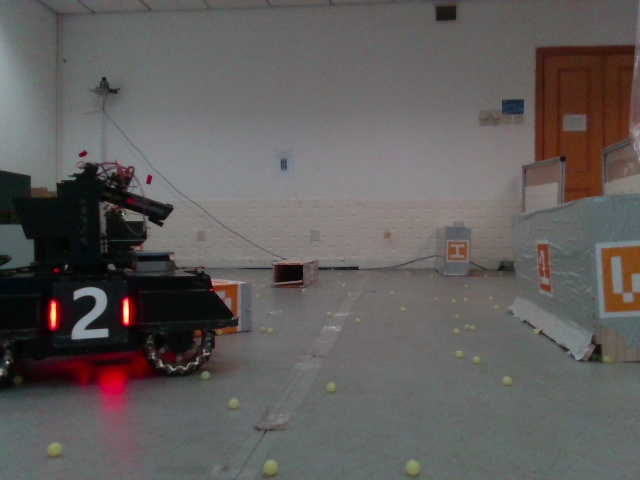Robot_Red: (1, 151, 241, 380)
armor_Red: (48, 286, 130, 338)
